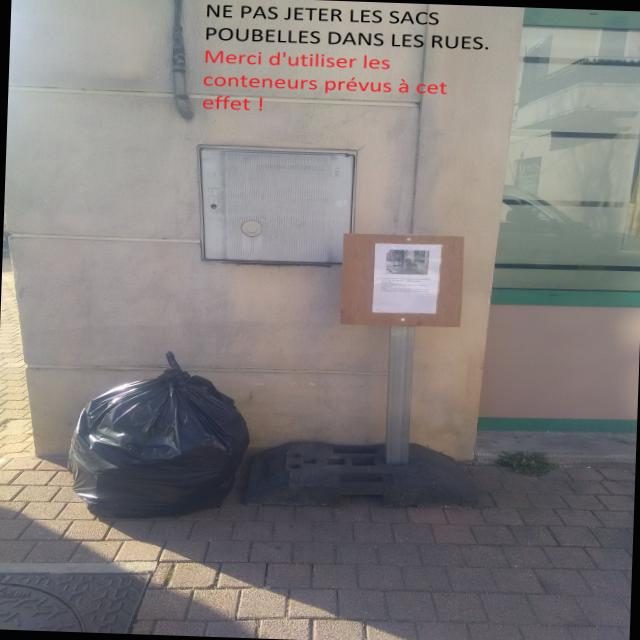garbage: (35, 320, 259, 537)
